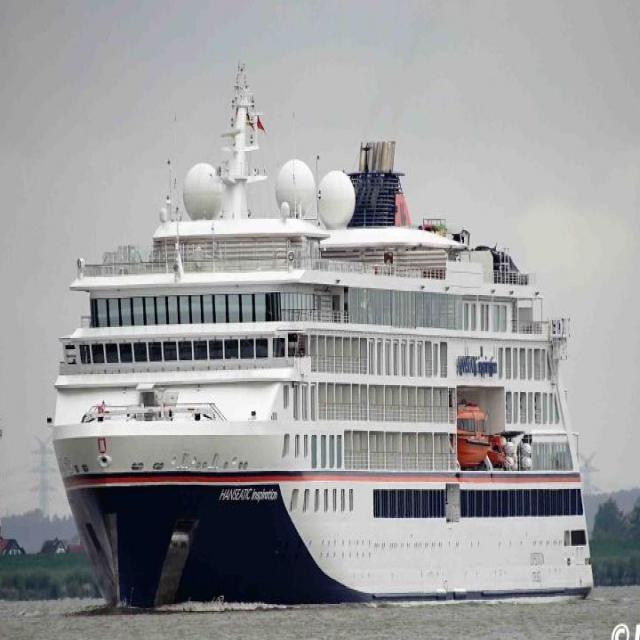cruises: (50, 59, 599, 618)
